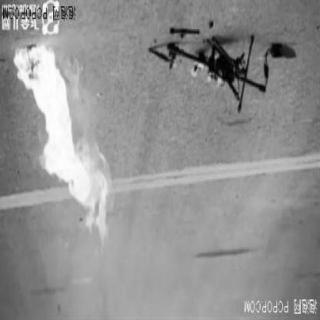Fire: (10, 42, 114, 260)
